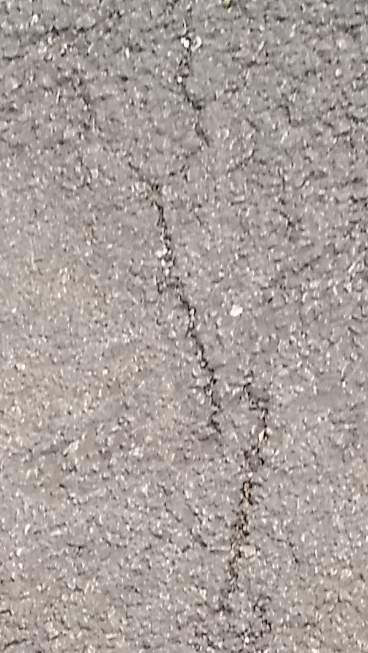A: (133, 125, 289, 638)
